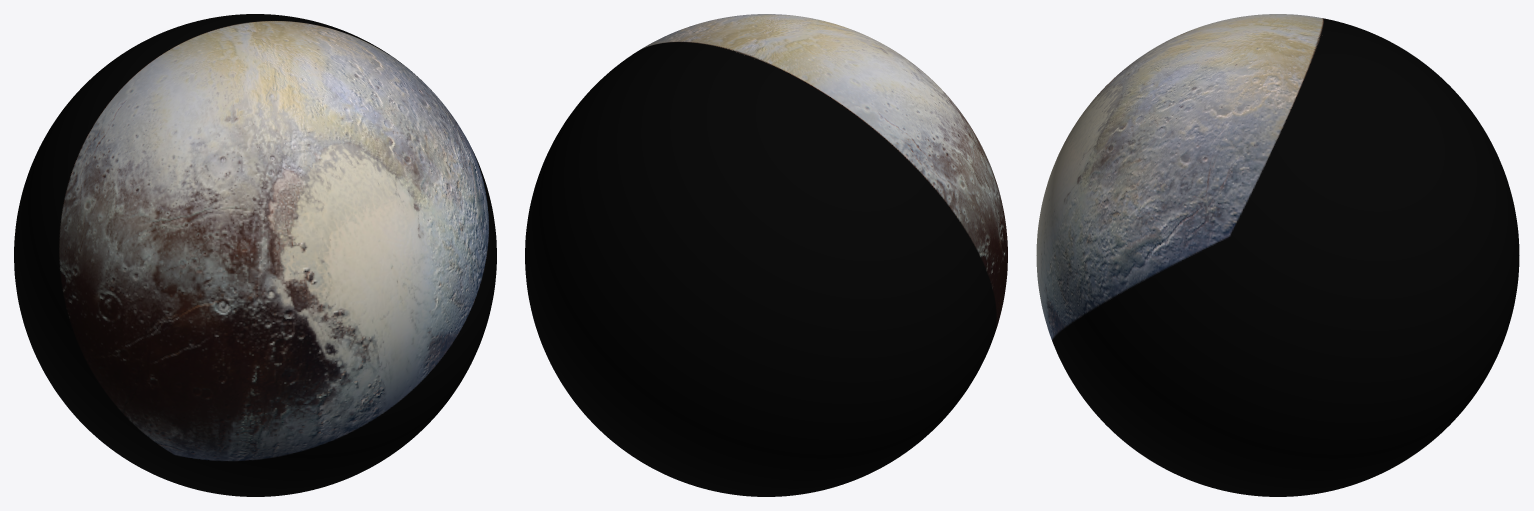
Rendered from pluto.glb.
3 views of the same model, side by side, from view 1: azimuth 30°, elevation 25°; view 2: azimuth 150°, elevation 25°; view 3: azimuth 270°, elevation 25° (orthographic).
Visible parts, largest first — view 1: Object_2; view 2: Object_2; view 3: Object_2.
Part boxes in pixels (x1,y1,x2,y2): Object_2: [14, 14, 496, 496]; Object_2: [525, 14, 1007, 496]; Object_2: [1036, 14, 1519, 496].
Bounding box in the file's own units: 2 × 2 × 2.
1 material, 1 textured.
